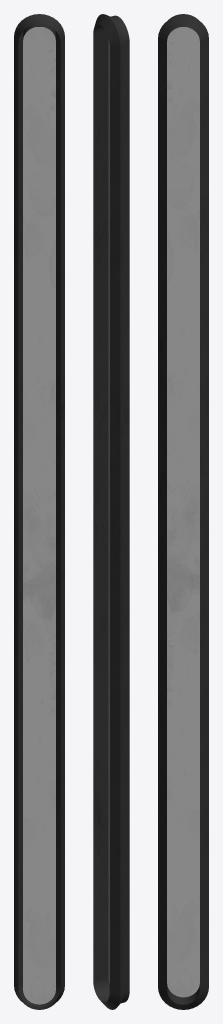
The model's file is LaserHole9M.fbx.
The picture shows the model from 3 angles, left to right: view 1: azimuth 90°, elevation 25°; view 2: azimuth 210°, elevation 25°; view 3: azimuth 270°, elevation 25°; orthographic projection.
Parts seen in each view (by area): view 1: LaserHole.003; view 2: LaserHole.003; view 3: LaserHole.003.
Part boxes in pixels (x1,y1,x2,y2): LaserHole.003: (14,14,64,1009); LaserHole.003: (93,14,129,1009); LaserHole.003: (158,14,208,1009).
Size of the model in its own units: 17.55 by 930 by 43.23.
